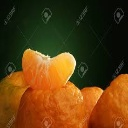orange: (20, 46, 75, 92)
